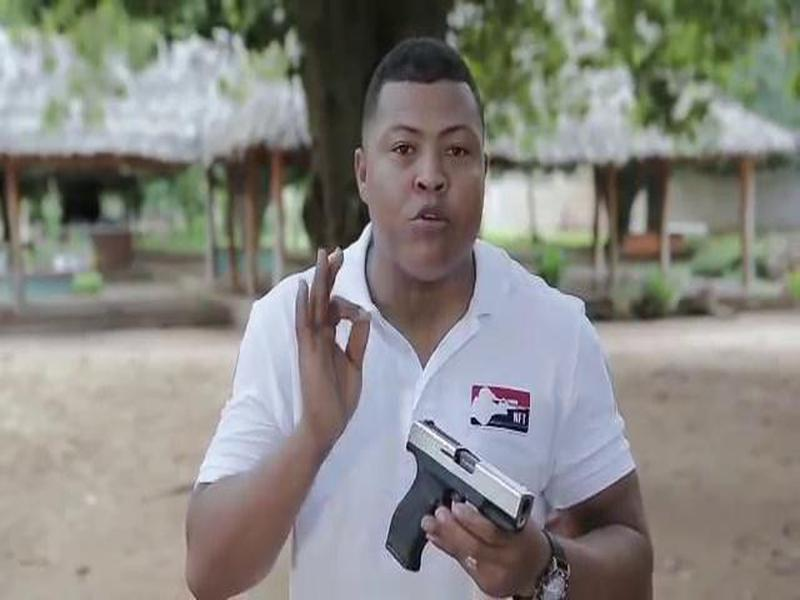Pistola: (385, 414, 542, 573)
